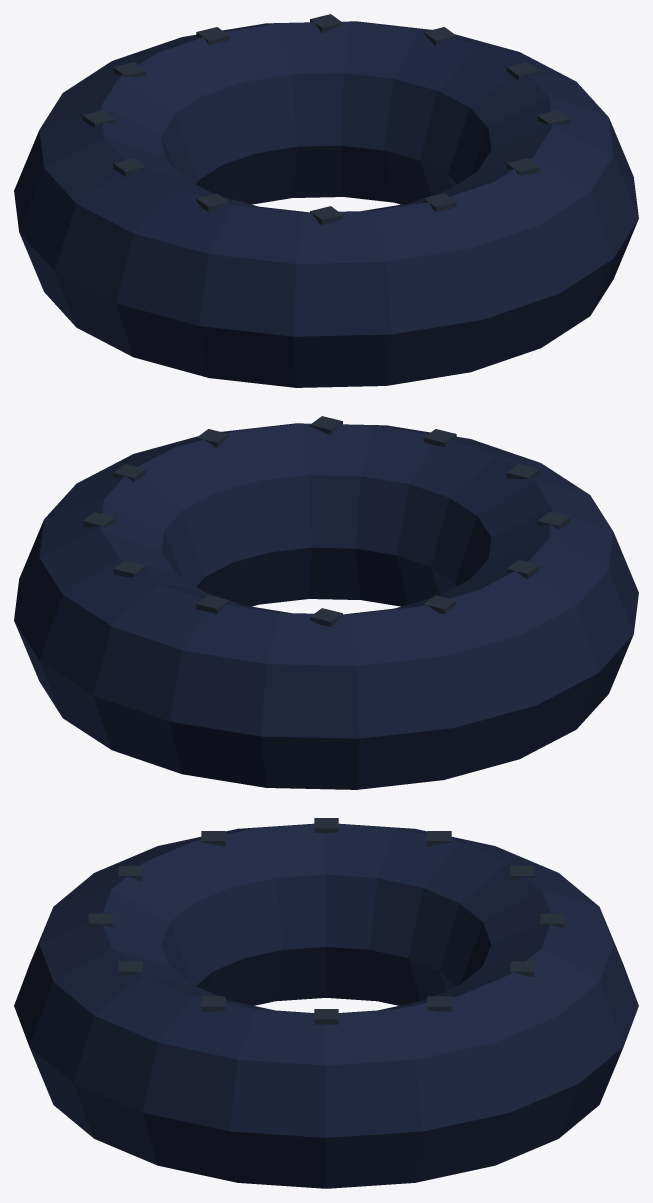
Rendered from P_tire.glb.
3 views of the same model, one above another, from view 1: azimuth 30°, elevation 25°; view 2: azimuth 150°, elevation 25°; view 3: azimuth 270°, elevation 25° (orthographic).
Visible parts, largest first — view 1: Tire, WearMarks; view 2: Tire, WearMarks; view 3: Tire, WearMarks.
Boxes of the visible parts, x1,y1,x2,y2 form: Tire: [14, 21, 638, 387]; WearMarks: [82, 14, 570, 225]; Tire: [14, 423, 638, 789]; WearMarks: [82, 416, 570, 627]; Tire: [14, 823, 638, 1188]; WearMarks: [88, 818, 564, 1024].
Size of the model in its own units: 0.65 by 0.2 by 0.65.
